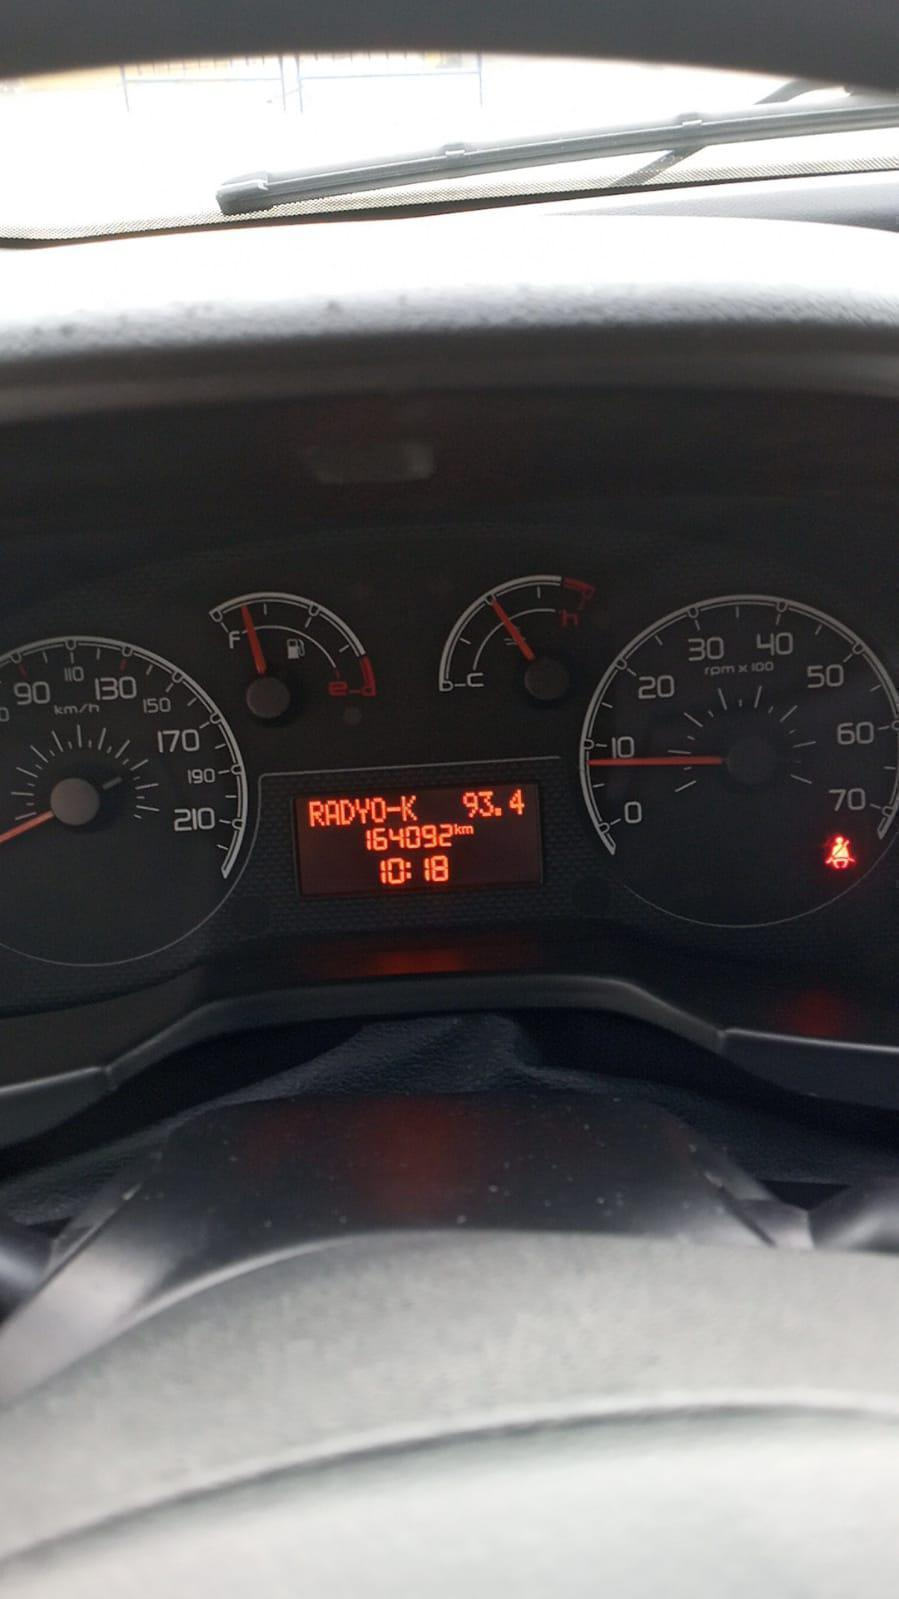,: (494, 805, 503, 817)
0: (387, 857, 404, 884), (405, 824, 422, 848)
1: (379, 858, 386, 885), (423, 856, 430, 882), (366, 829, 371, 851)
2: (438, 823, 452, 847)
3: (477, 790, 494, 817)
4: (507, 789, 526, 816), (387, 826, 404, 849)
6: (372, 827, 387, 851)
8: (430, 854, 449, 882)
9: (461, 791, 477, 818), (422, 823, 437, 848)
X: (401, 794, 417, 821), (370, 795, 386, 823), (325, 798, 340, 826), (308, 800, 324, 827), (353, 797, 369, 824), (339, 798, 353, 825), (461, 824, 474, 834), (405, 860, 412, 880), (386, 804, 401, 813), (453, 823, 461, 834)
odometer: (288, 776, 547, 899)
